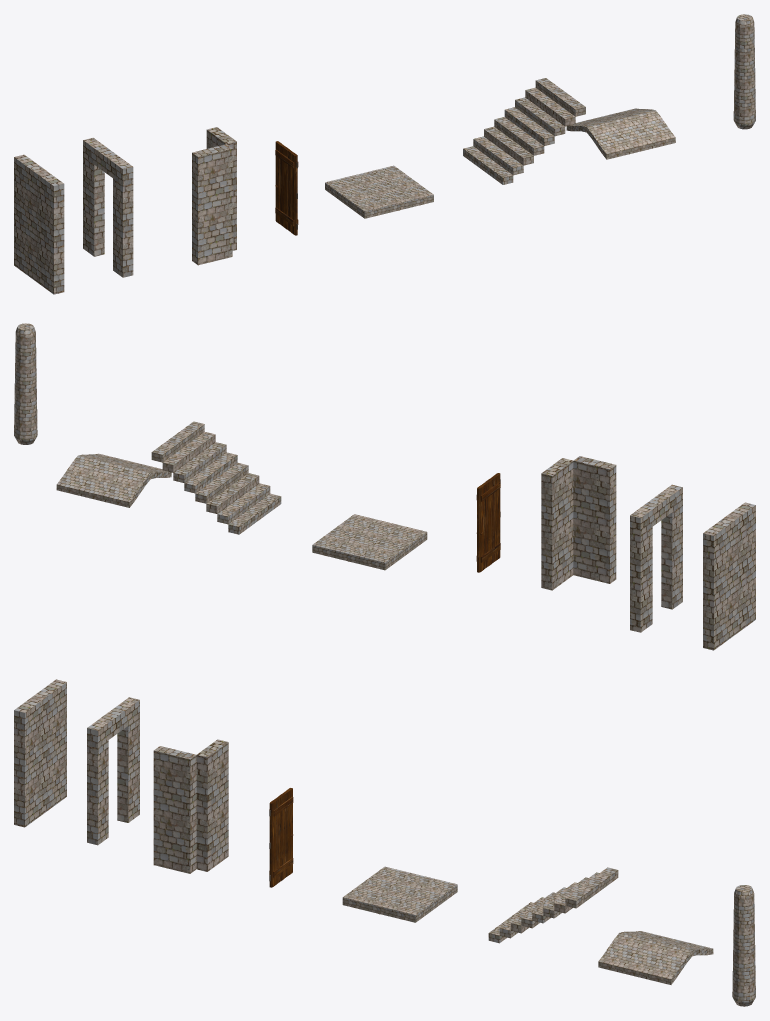
File: dungeon_kit.glb
3 views of the same model, one above another, from view 1: azimuth 30°, elevation 25°; view 2: azimuth 150°, elevation 25°; view 3: azimuth 330°, elevation 25° (orthographic). The views are drawn at different scales.
Visible parts, largest first — view 1: stairs, wall_straight, wall_corner, wall_doorway, floor_tile, ceiling_vault, pillar, door_wood; view 2: wall_corner, stairs, wall_straight, wall_doorway, floor_tile, ceiling_vault, pillar, door_wood; view 3: wall_corner, wall_straight, wall_doorway, floor_tile, ceiling_vault, stairs, pillar, door_wood.
Part boxes in pixels (<box>): stairs: <box>463,78,585,184</box>; wall_straight: <box>14,154,64,294</box>; wall_corner: <box>192,127,236,265</box>; wall_doorway: <box>83,137,133,277</box>; floor_tile: <box>325,165,433,218</box>; ceiling_vault: <box>566,108,675,159</box>; pillar: <box>733,14,755,129</box>; door_wood: <box>275,141,298,235</box>; wall_corner: <box>541,456,616,590</box>; stairs: <box>151,421,281,534</box>; wall_straight: <box>703,502,755,650</box>; wall_doorway: <box>630,484,682,632</box>; floor_tile: <box>312,514,427,570</box>; ceiling_vault: <box>56,453,171,507</box>; pillar: <box>14,323,37,444</box>; door_wood: <box>476,473,500,572</box>; wall_corner: <box>153,739,228,873</box>; wall_straight: <box>14,679,66,827</box>; wall_doorway: <box>87,697,139,845</box>; floor_tile: <box>342,866,457,922</box>; ceiling_vault: <box>598,931,713,984</box>; stairs: <box>488,867,618,943</box>; pillar: <box>732,885,755,1006</box>; door_wood: <box>269,788,293,887</box>.
Bounding box in the file's own units: 20.28 × 3 × 2.3.
Materials: 3 (3 with a texture image).
